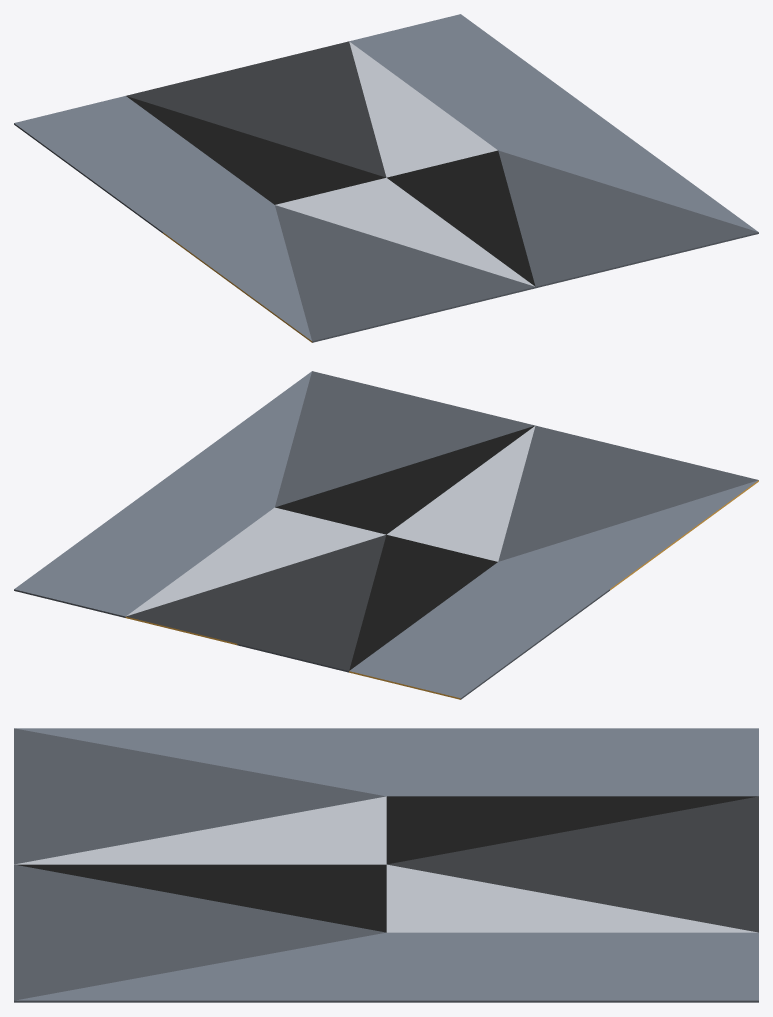
Rendered from Accesories_Carpet.012.glb.
3 views of the same model, one above another, from view 1: azimuth 30°, elevation 25°; view 2: azimuth 150°, elevation 25°; view 3: azimuth 270°, elevation 25° (orthographic). The views are drawn at different scales.
Visible parts, largest first — view 1: Accesories_Carpet.012; view 2: Accesories_Carpet.012; view 3: Accesories_Carpet.012.
Part boxes in pixels (x1,y1,x2,y2): Accesories_Carpet.012: (14, 14, 758, 342); Accesories_Carpet.012: (14, 371, 758, 699); Accesories_Carpet.012: (14, 728, 758, 1002).
Bounding box in the file's own units: 2.4 × 0.00807 × 2.78.
1 material, 1 textured.
